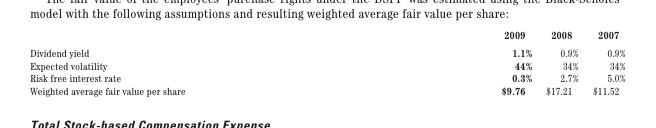table: (29, 28, 624, 96)
table column: (29, 28, 342, 96), (342, 28, 538, 96), (538, 28, 584, 96), (584, 28, 624, 96)
table column header: (29, 28, 624, 43)
table row: (29, 28, 624, 43), (29, 43, 624, 58), (29, 58, 624, 71), (29, 71, 624, 84), (29, 84, 624, 96)
